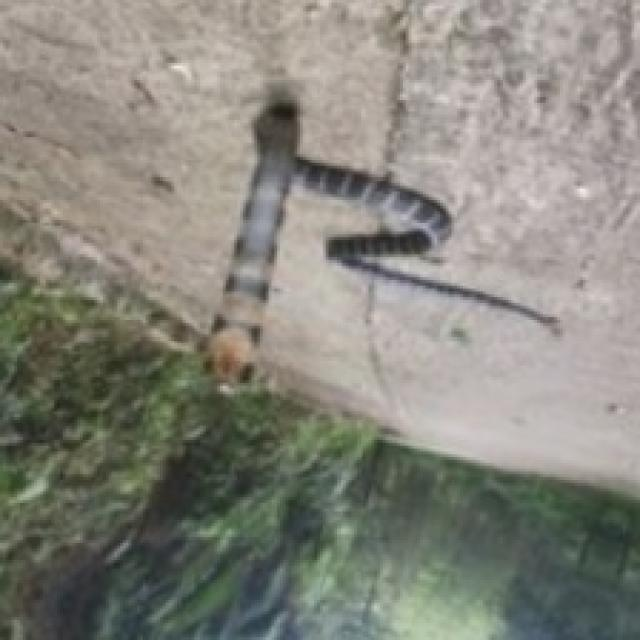king cobra: (209, 97, 557, 380)
